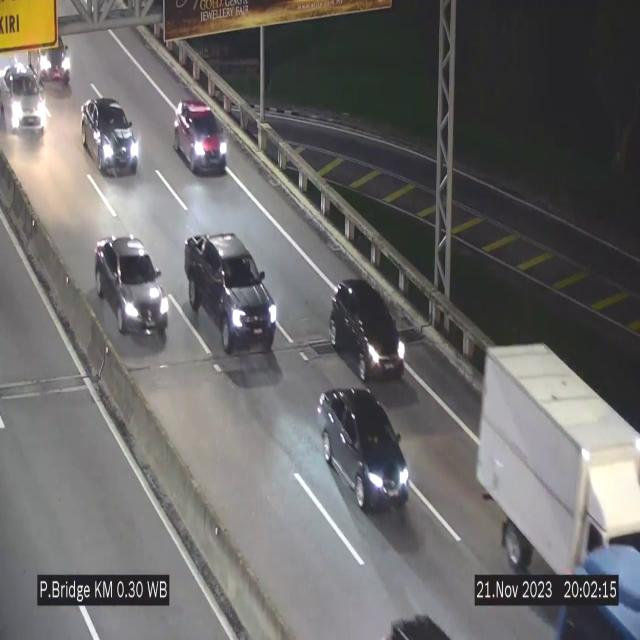Car: (183, 229, 279, 357), (316, 382, 409, 514), (327, 275, 407, 383), (93, 234, 170, 337), (172, 96, 228, 177), (81, 98, 140, 174)
Truck: (473, 339, 640, 575)
